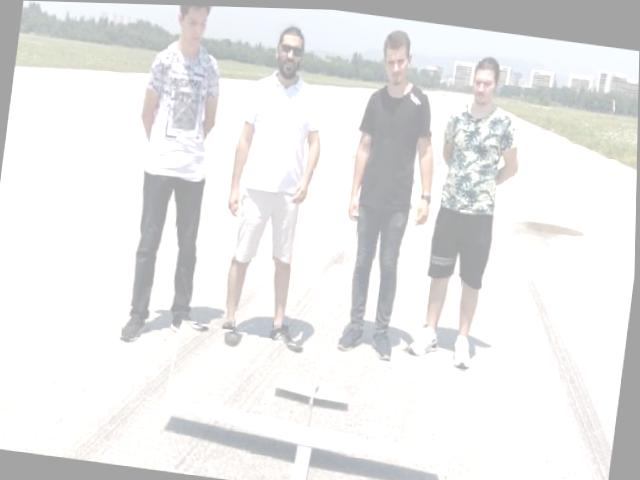insansiz-hava-araci: (156, 323, 466, 480)
